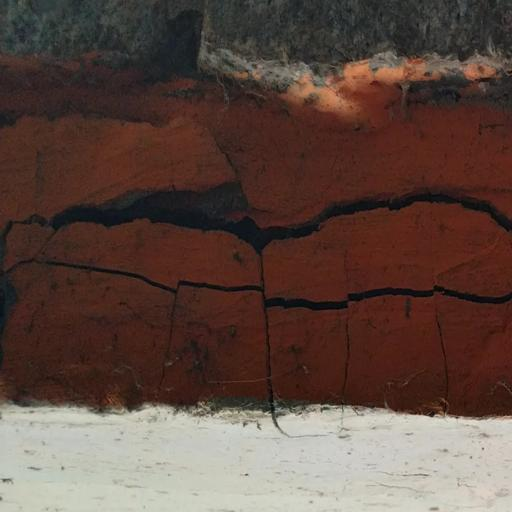major_crack: (5, 242, 512, 455), (5, 167, 512, 252)
